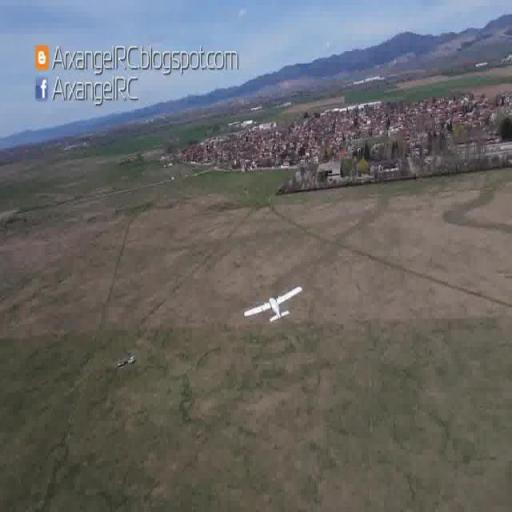uav: (242, 278, 304, 330)
